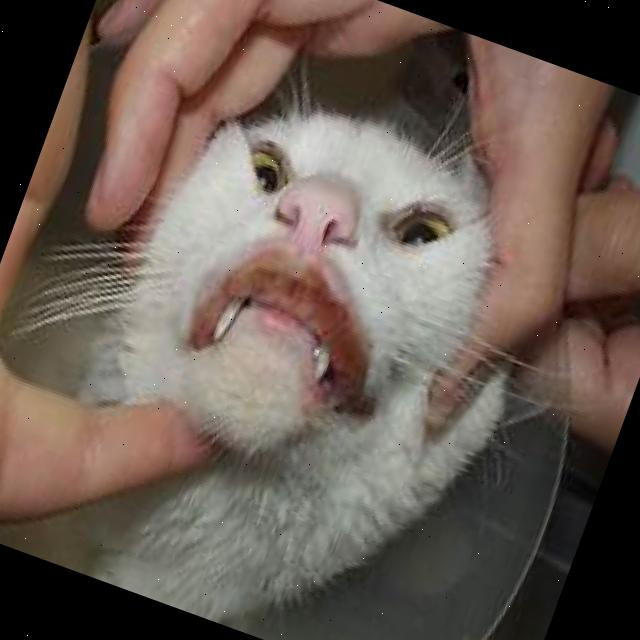cat-lump-and-bump: (207, 238, 375, 360)
